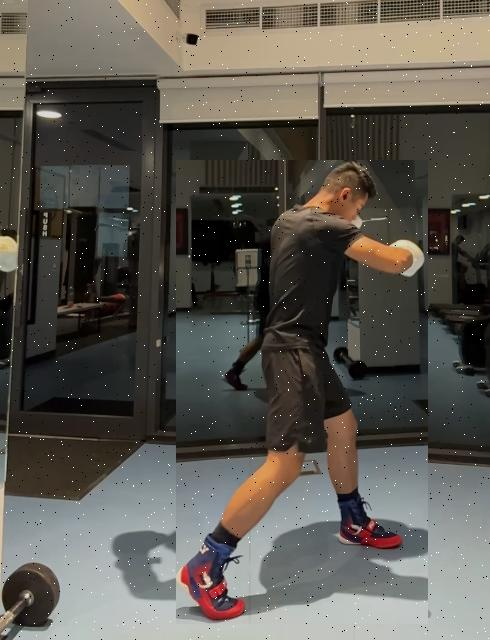punch: (176, 160, 428, 624)
